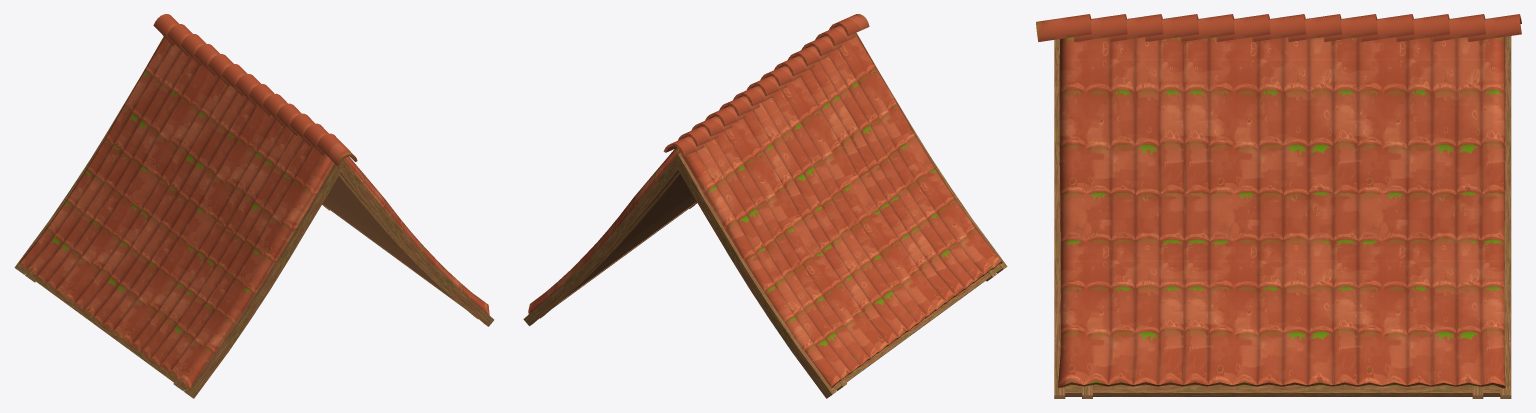
The model's file is Roof_RoundTiles_8x8.gltf.
3 renders of one model, left to right at view 1: azimuth 30°, elevation 25°; view 2: azimuth 150°, elevation 25°; view 3: azimuth 270°, elevation 25°, orthographic. The views are drawn at different scales.
Parts seen in each view (by area): view 1: Roof_RoundTiles_8x8; view 2: Roof_RoundTiles_8x8; view 3: Roof_RoundTiles_8x8.
Boxes of the visible parts, x1,y1,x2,y2 form: Roof_RoundTiles_8x8: (14, 14, 494, 398); Roof_RoundTiles_8x8: (523, 14, 1007, 398); Roof_RoundTiles_8x8: (1036, 14, 1521, 398).
Size of the model in its own units: 9.95 by 6.78 by 10.33.
Materials: 2 (2 with a texture image).
